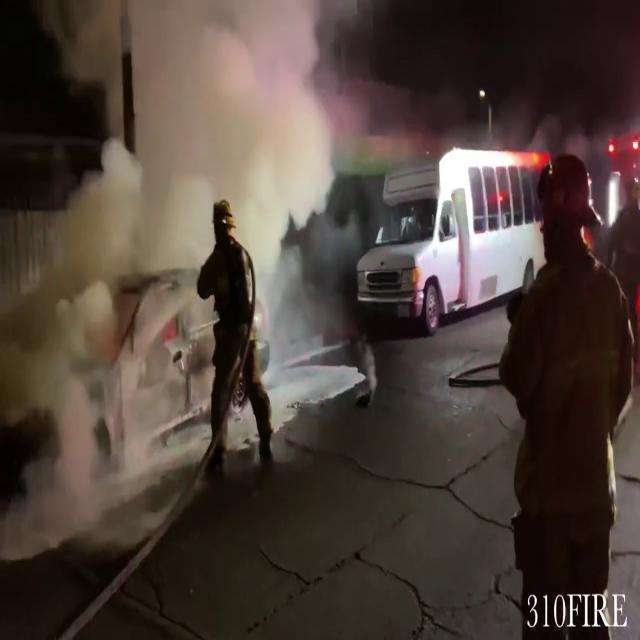Smoke: (0, 0, 378, 515), (6, 0, 377, 322)
